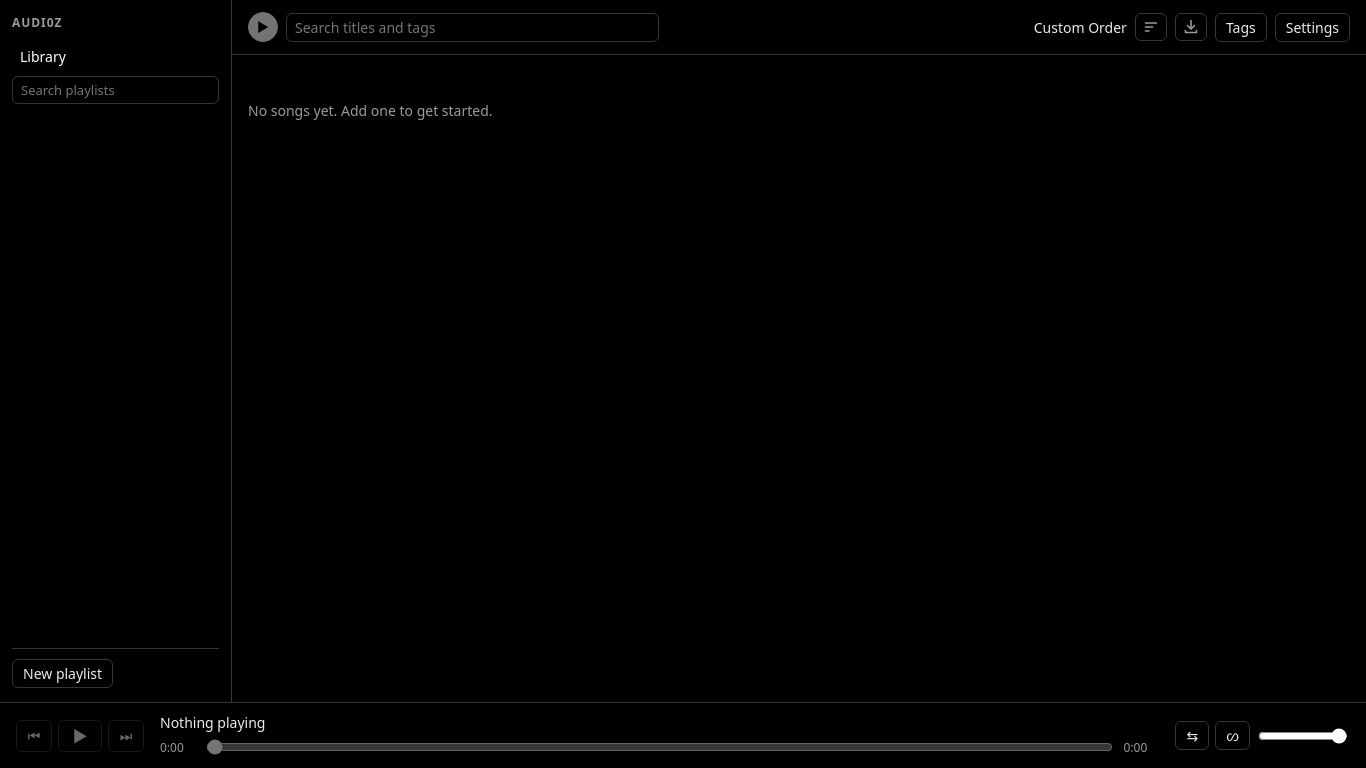
Scenario: SettingsDialog › says what compressing saves, in bold, next to the preference
Click the button "Settings". click: (1312, 27)
box: [1275, 12, 1350, 42]
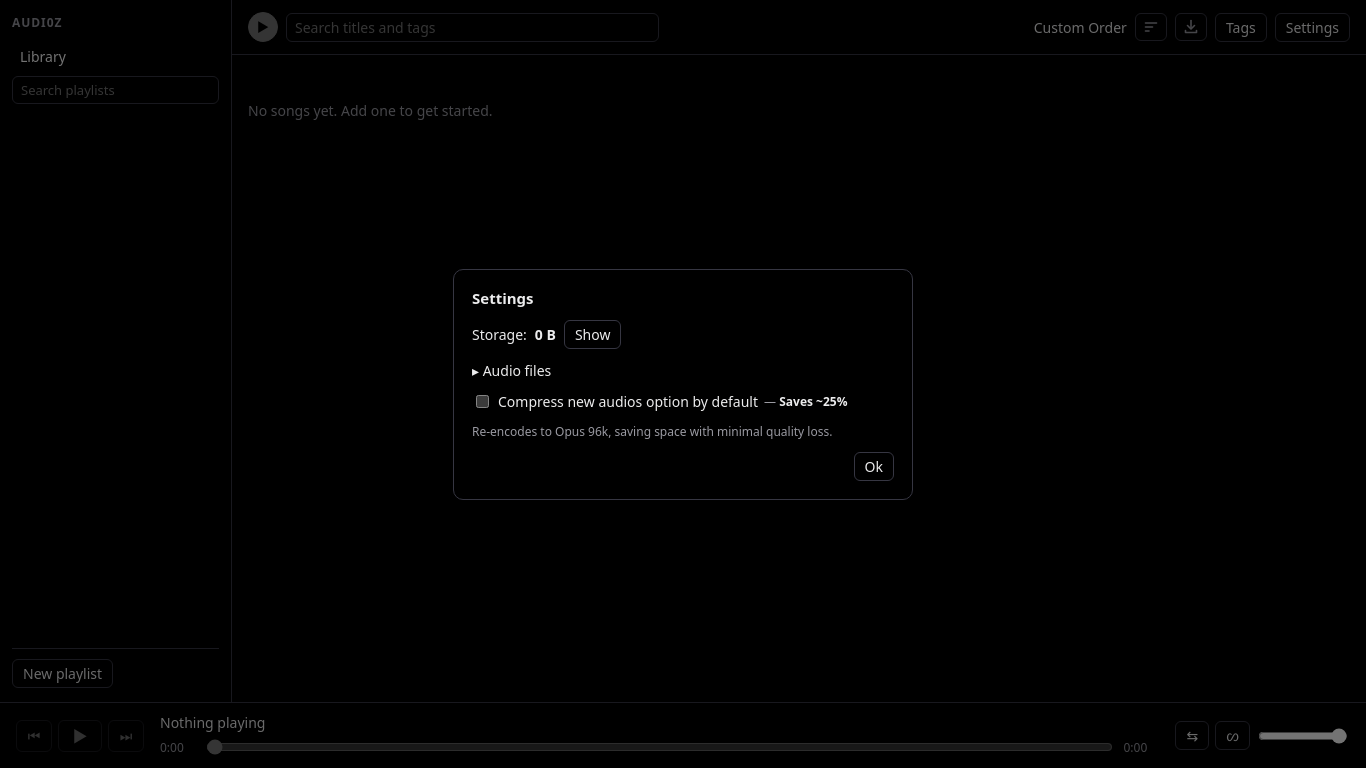
Expected: the checkbox labelled "Compress new audios option by default" is shown, [476, 394, 489, 408]
